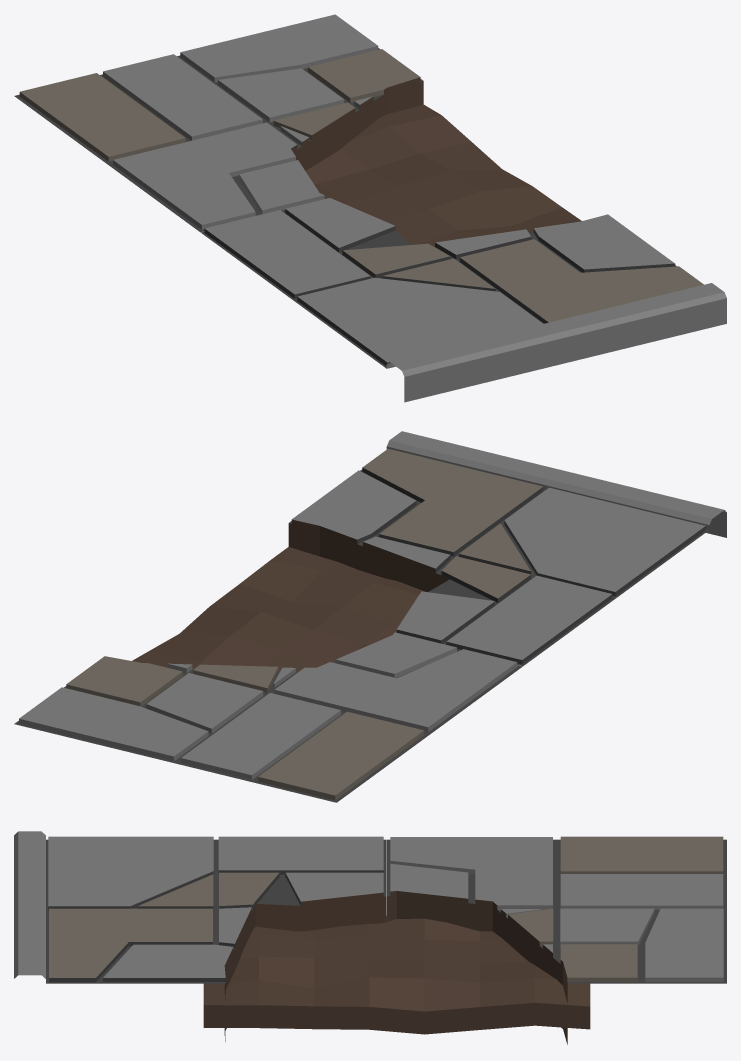
Rendered from Walkway Modern Hole A - 3.fbx.
3 views of the same model, one above another, from view 1: azimuth 30°, elevation 25°; view 2: azimuth 150°, elevation 25°; view 3: azimuth 270°, elevation 25° (orthographic). The views are drawn at different scales.
Parts seen in each view (by area): view 1: Walkway Modern Hole A - 3.001; view 2: Walkway Modern Hole A - 3.001; view 3: Walkway Modern Hole A - 3.001.
Part boxes in pixels (x1,y1,x2,y2): Walkway Modern Hole A - 3.001: [14, 14, 726, 402]; Walkway Modern Hole A - 3.001: [14, 431, 726, 802]; Walkway Modern Hole A - 3.001: [14, 831, 726, 1044].
Size of the model in its own units: 305 by 639 by 70.48.
